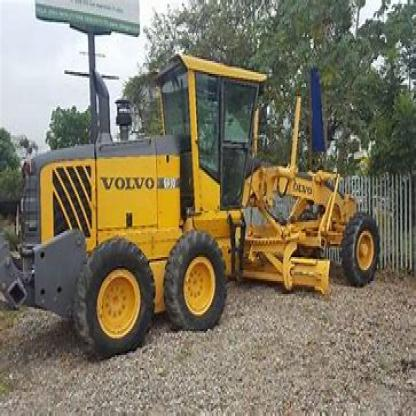bull_dozer/loader/grader: (9, 40, 386, 361)
